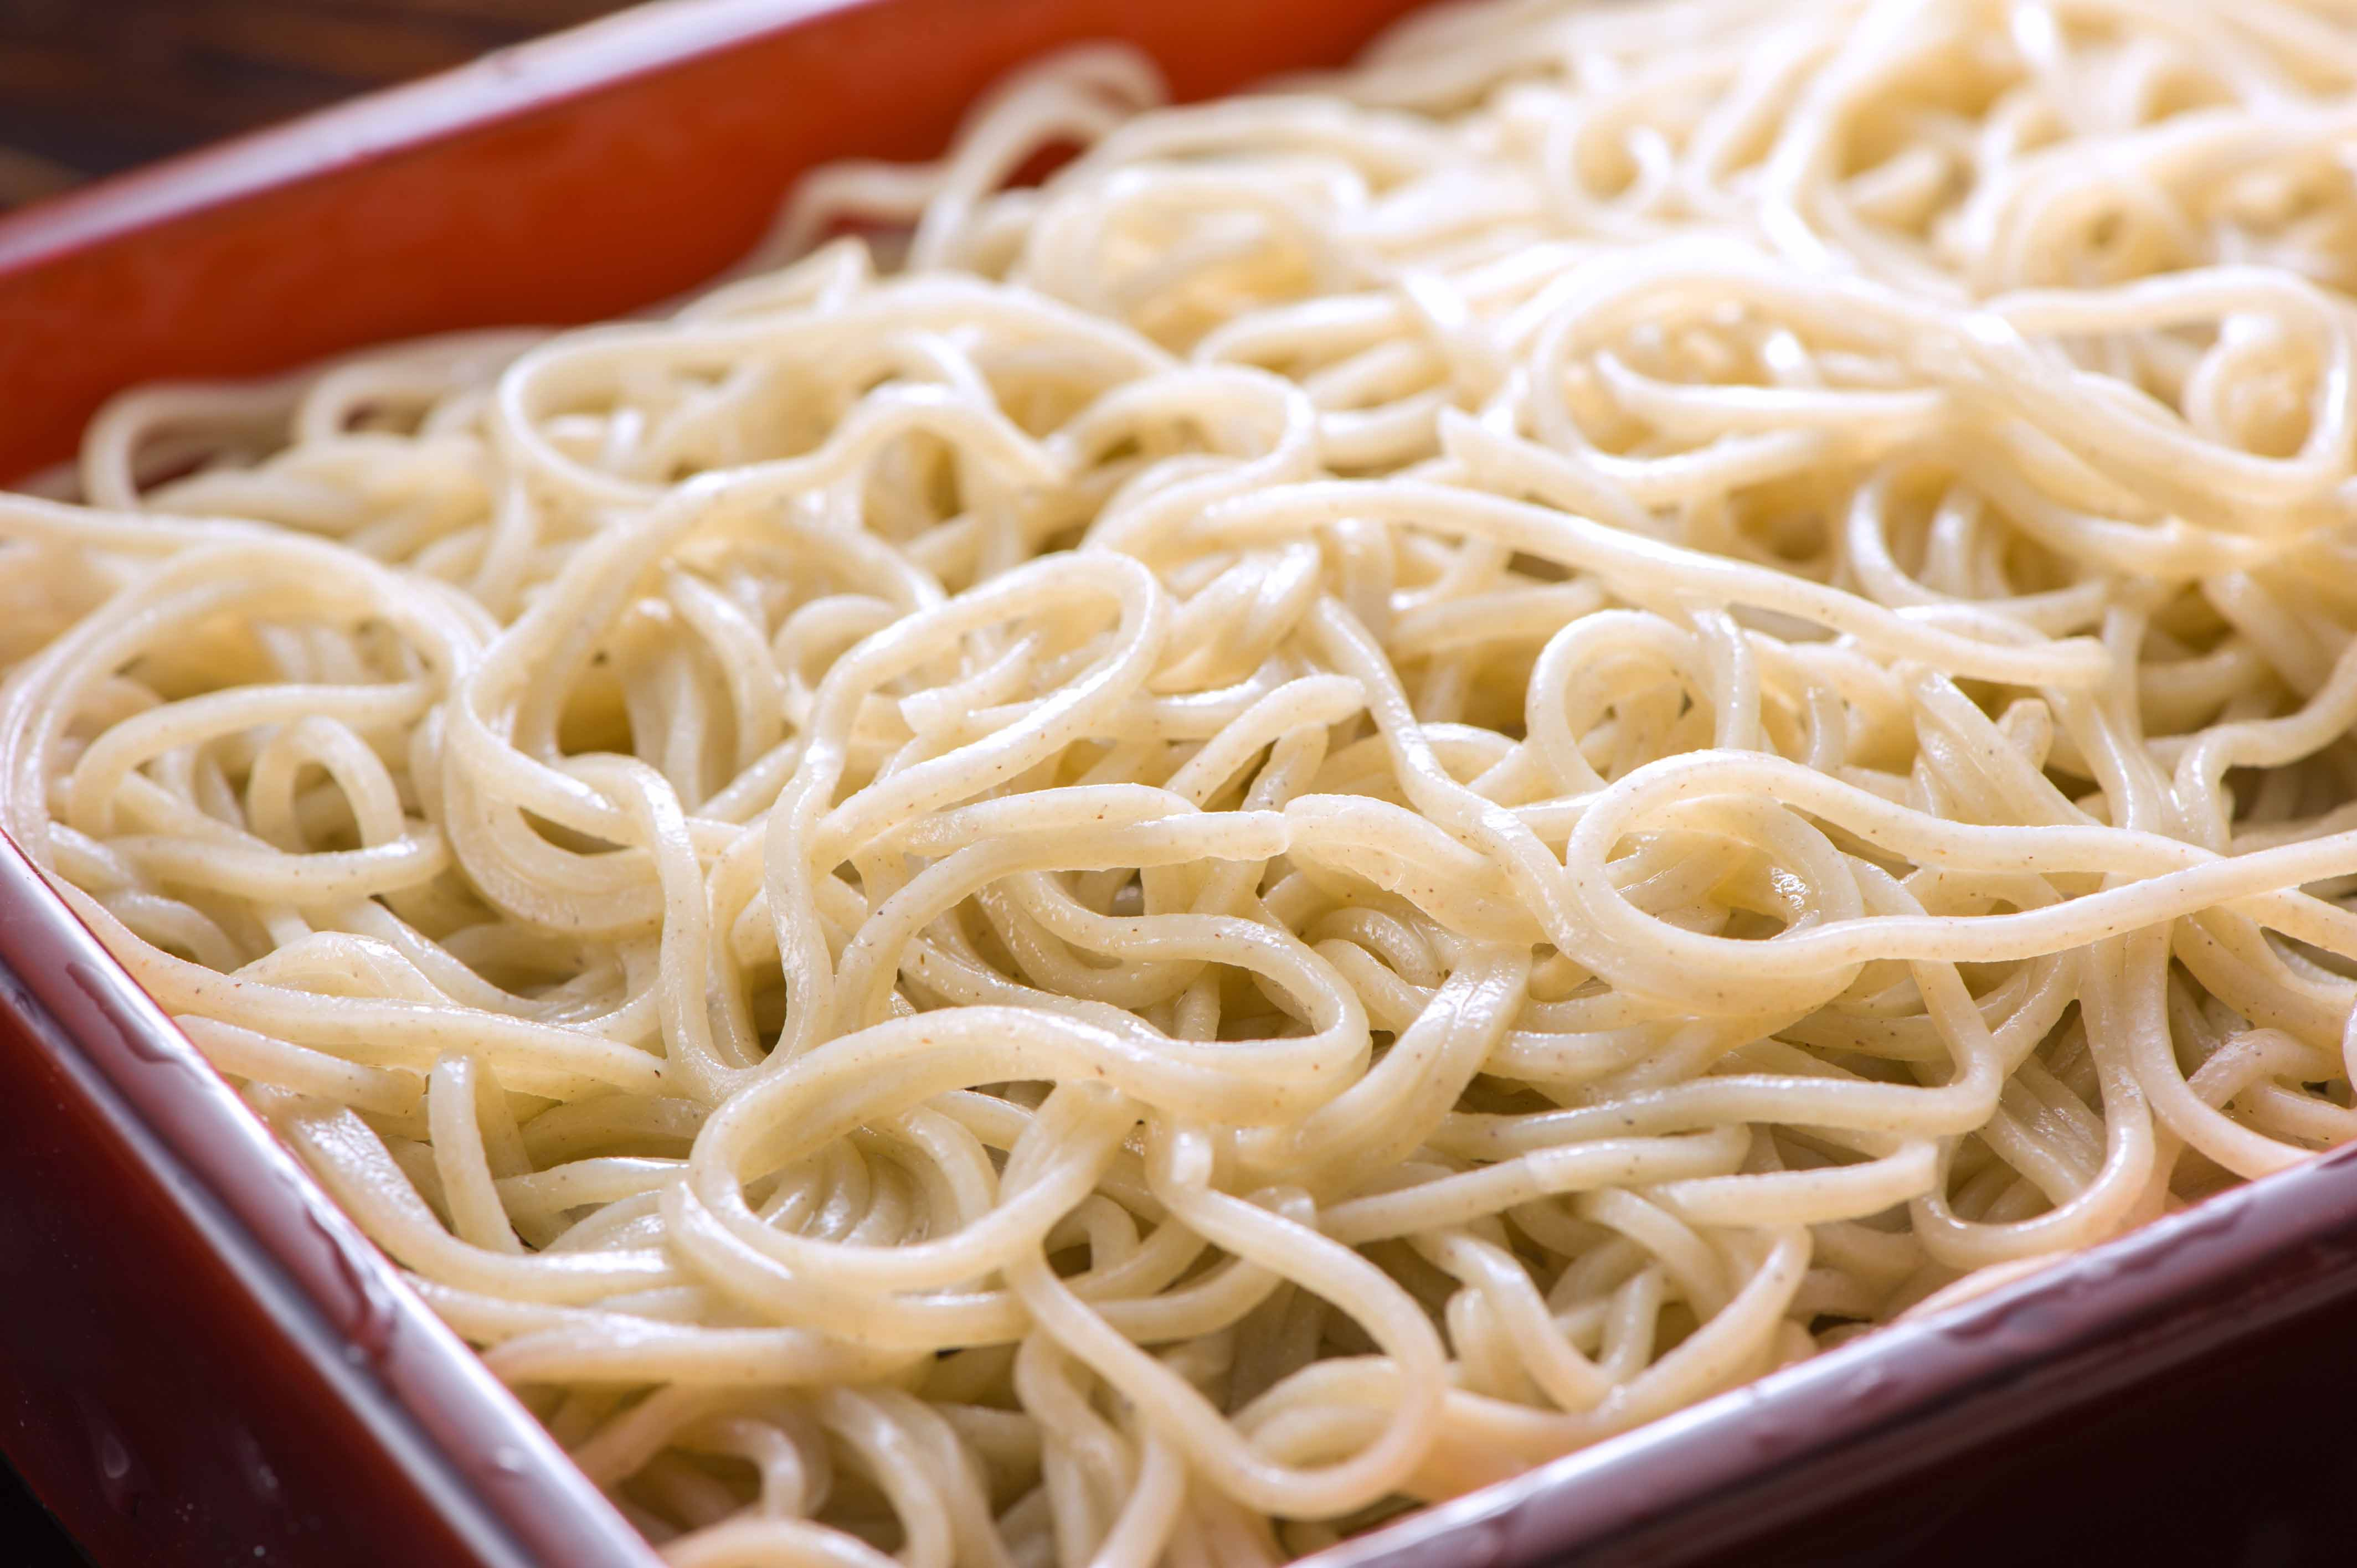Soba: (80, 47, 2357, 1515)
